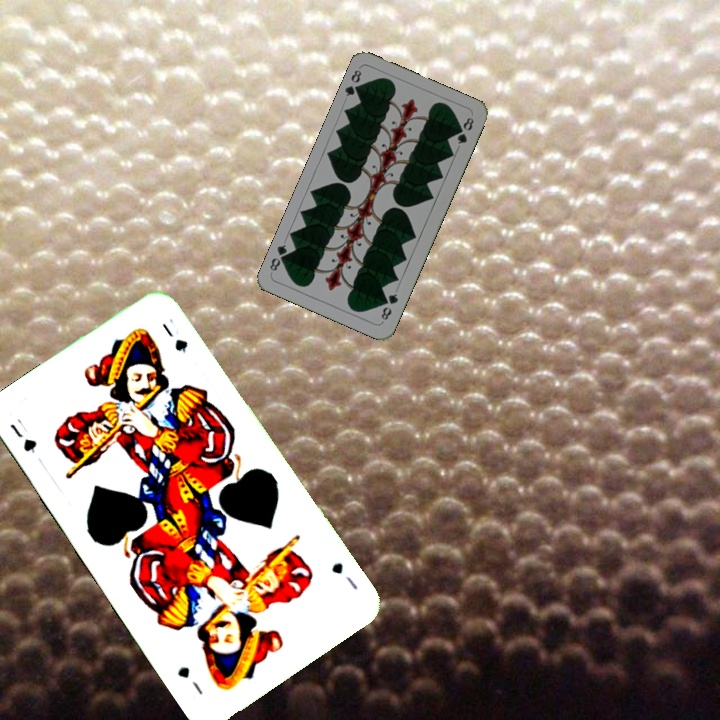G8: (377, 289, 401, 324), (341, 65, 365, 99)
GU: (5, 419, 40, 456), (327, 558, 361, 592)
